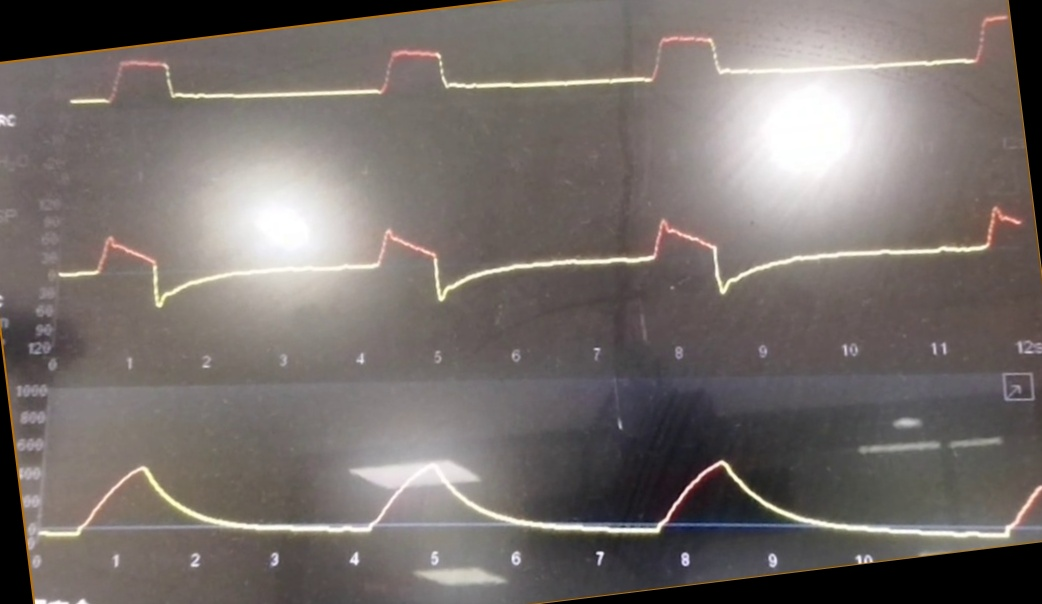Normal Flow: (59, 186, 1025, 322)
Normal Volume: (45, 405, 1041, 546)
